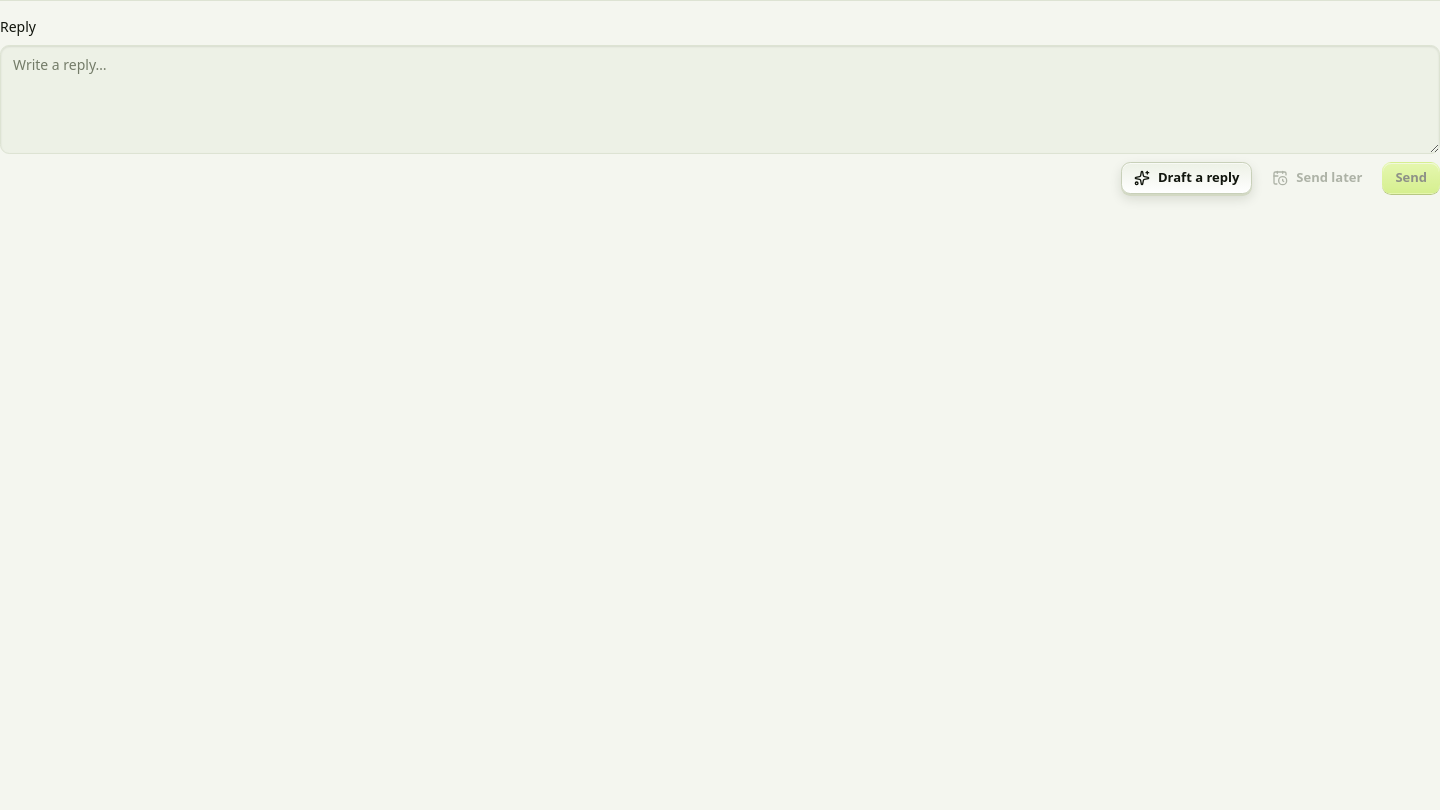
Test case: drafting over existing text asks first, and confirming replaces it
Type "my own words" into the text box labelled "Reply" at (720, 100), box [0,45,1439,154]
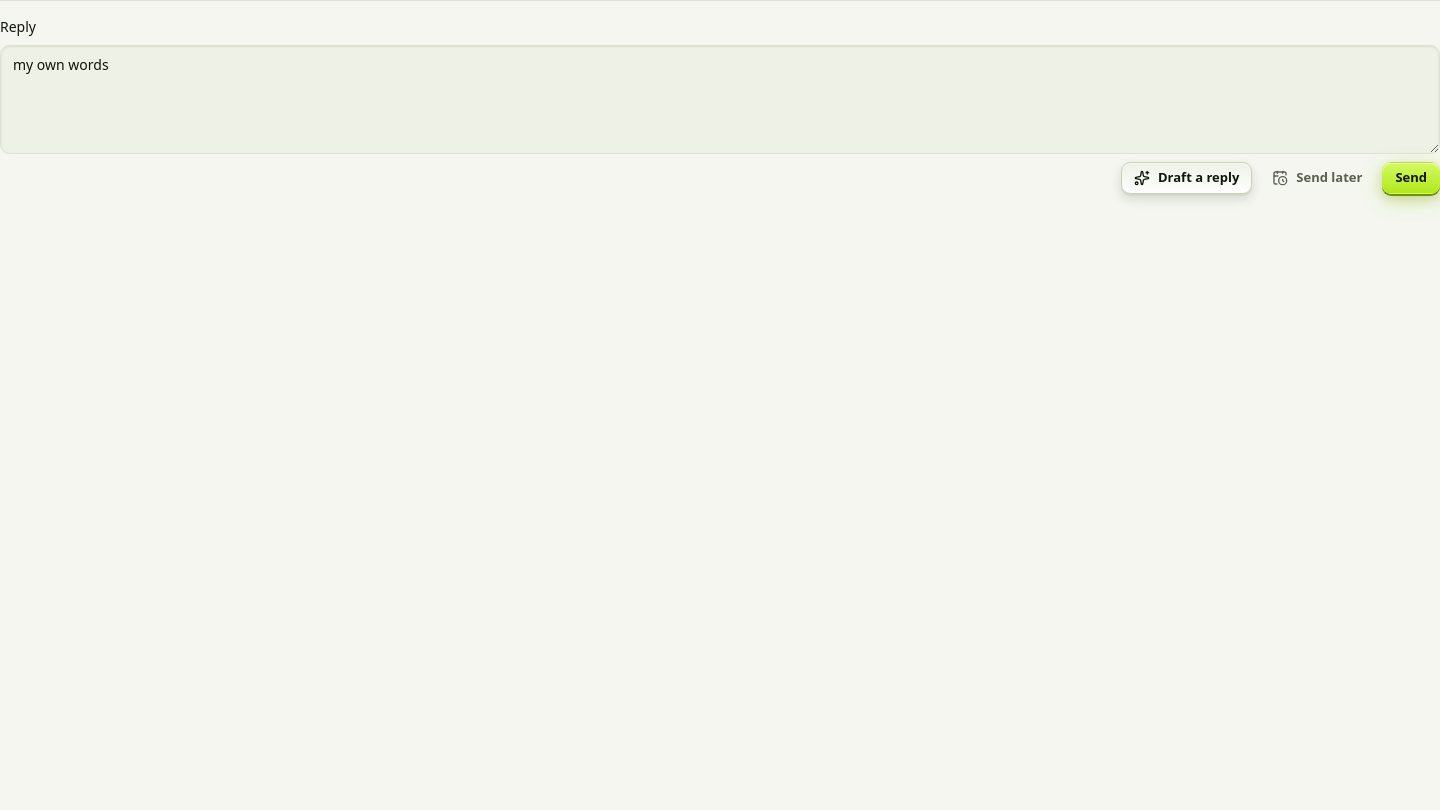
Click the button "Draft a reply" at (1187, 178), box [1121,162,1252,194]
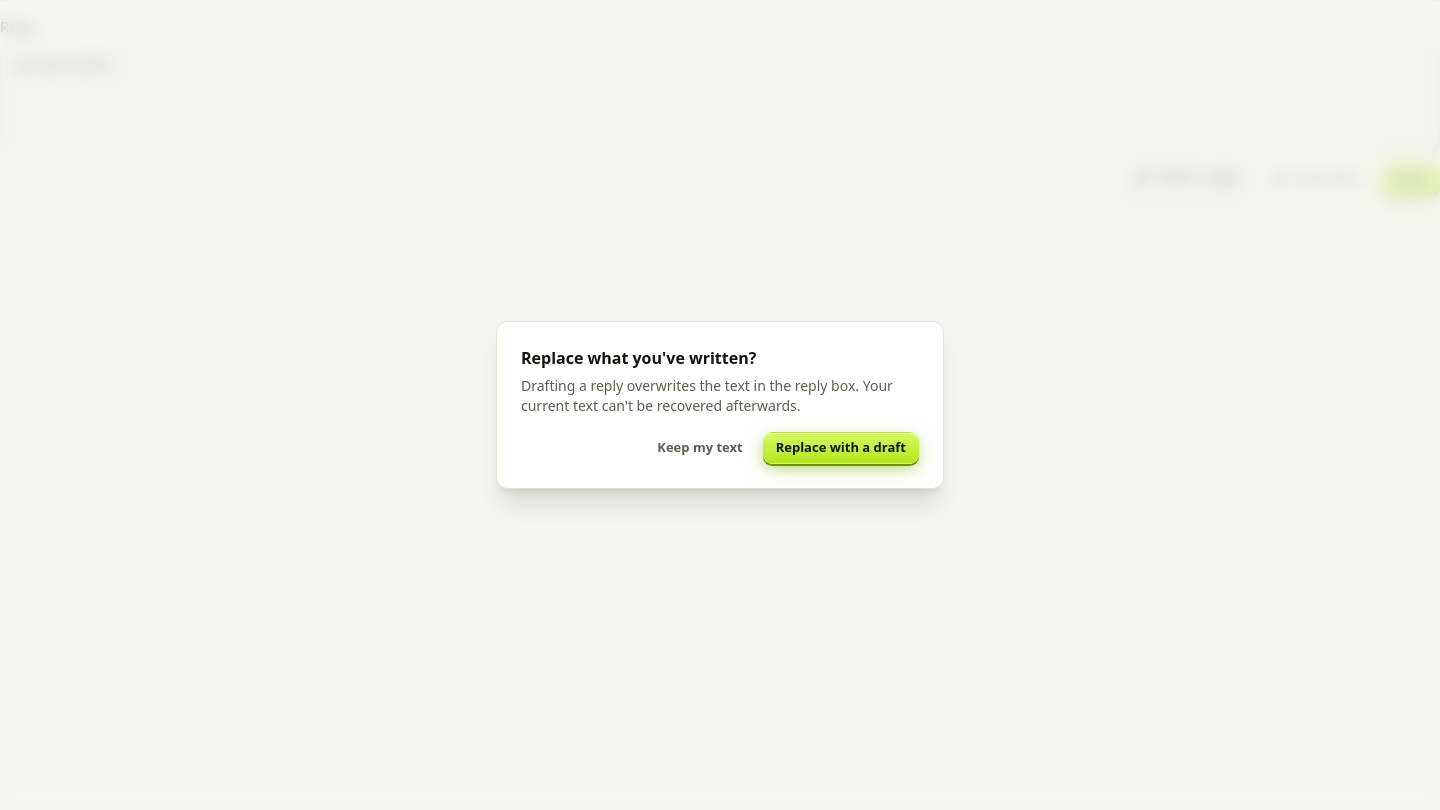
expect the heading "Replace what you've written?" is shown: met, box [521,347,756,369]
Click the button "Replace with a draft" at (841, 448), box [763,432,919,464]
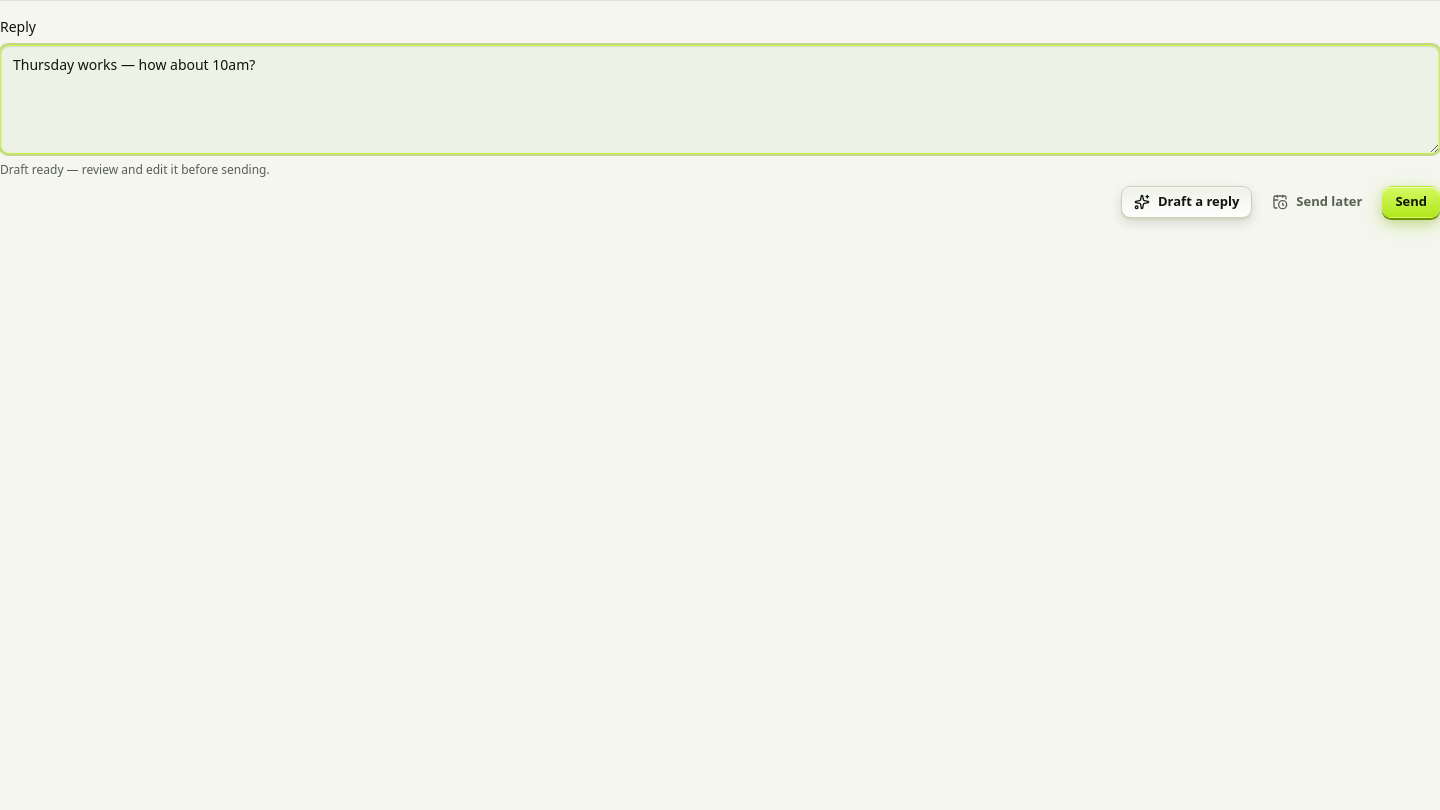
expect the text box labelled "Reply" holds "Thursday works — how about 10am?": met, box [0,45,1439,154]
